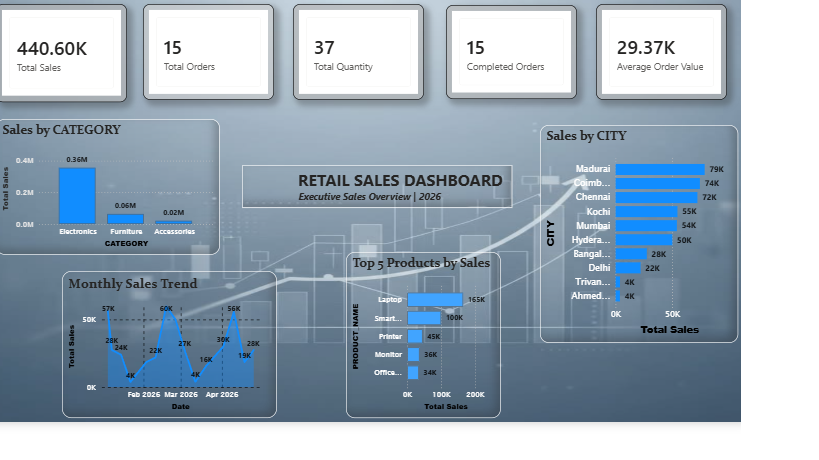

This screenshot's page, from the dashboard's own definition file:
{"tool":"powerbi","page":{"name":"Executive Sales Overview","canvas":[1280,720],"ordinal":0},"visuals":[{"type":"cardVisual","fields":{"Data":["ORDER_ITEMS.Total Sales"]},"box":[16.8,16.8,220.1,164.6],"z":0},{"type":"cardVisual","fields":{"Data":["ORDER_ITEMS.Total Orders"]},"box":[263.7,16.8,220.1,161.3],"z":1000},{"type":"cardVisual","fields":{"Data":["ORDER_ITEMS.Total Quantity"]},"box":[515.7,16.8,220.1,161.3],"z":2000},{"type":"cardVisual","fields":{"Data":["ORDER_ITEMS.Average Order Value"]},"box":[1024.7,16.8,220.1,161.3],"z":3000},{"type":"cardVisual","fields":{"Data":["ORDER_ITEMS.Completed Orders"]},"box":[772.7,18.5,220.1,157.9],"z":4000},{"type":"clusteredColumnChart","title":" Sales by CATEGORY","fields":{"Category":["PRODUCTS.CATEGORY"],"Y":["ORDER_ITEMS.Total Sales"]},"box":[16.8,210,376.3,228.5],"z":5000},{"type":"clusteredBarChart","title":"Sales by CITY","fields":{"Category":["CUSTOMERS.CITY"],"Y":["ORDER_ITEMS.Total Sales"]},"box":[930.6,220.1,332.6,366.2],"z":6000},{"type":"lineChart","title":"Monthly Sales Trend","fields":{"Y":["ORDER_ITEMS.Total Sales"],"Category":["CALENDER.Date"]},"box":[127.7,465.3,361.2,246.9],"z":7000},{"type":"clusteredBarChart","title":"Top 5 Products by Sales","fields":{"Category":["PRODUCTS.PRODUCT_NAME"],"Y":["ORDER_ITEMS.Total Sales"]},"box":[604.7,433.4,260.4,278.8],"z":8000},{"type":"textbox","box":[430,287.2,453.5,72.2],"z":9000}]}

Visuals, with their boxes in screenshot pixels (x1, y1, x2, y2), scaled from the page's 1280x720 canvas onto the 819x460 screenshot:
cardVisual - ORDER_ITEMS.Total Sales: bbox=[11, 11, 152, 116]
cardVisual - ORDER_ITEMS.Total Orders: bbox=[169, 11, 310, 114]
cardVisual - ORDER_ITEMS.Total Quantity: bbox=[330, 11, 471, 114]
cardVisual - ORDER_ITEMS.Average Order Value: bbox=[656, 11, 796, 114]
cardVisual - ORDER_ITEMS.Completed Orders: bbox=[494, 12, 635, 113]
" Sales by CATEGORY" clusteredColumnChart: bbox=[11, 134, 252, 280]
"Sales by CITY" clusteredBarChart: bbox=[595, 141, 808, 375]
"Monthly Sales Trend" lineChart: bbox=[82, 297, 313, 455]
"Top 5 Products by Sales" clusteredBarChart: bbox=[387, 277, 554, 455]
textbox: bbox=[275, 183, 565, 230]
